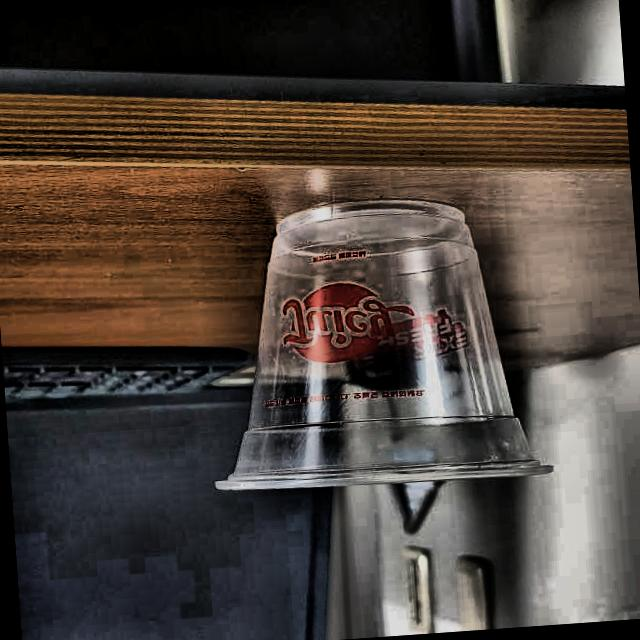plastic cup: (190, 189, 564, 497)
